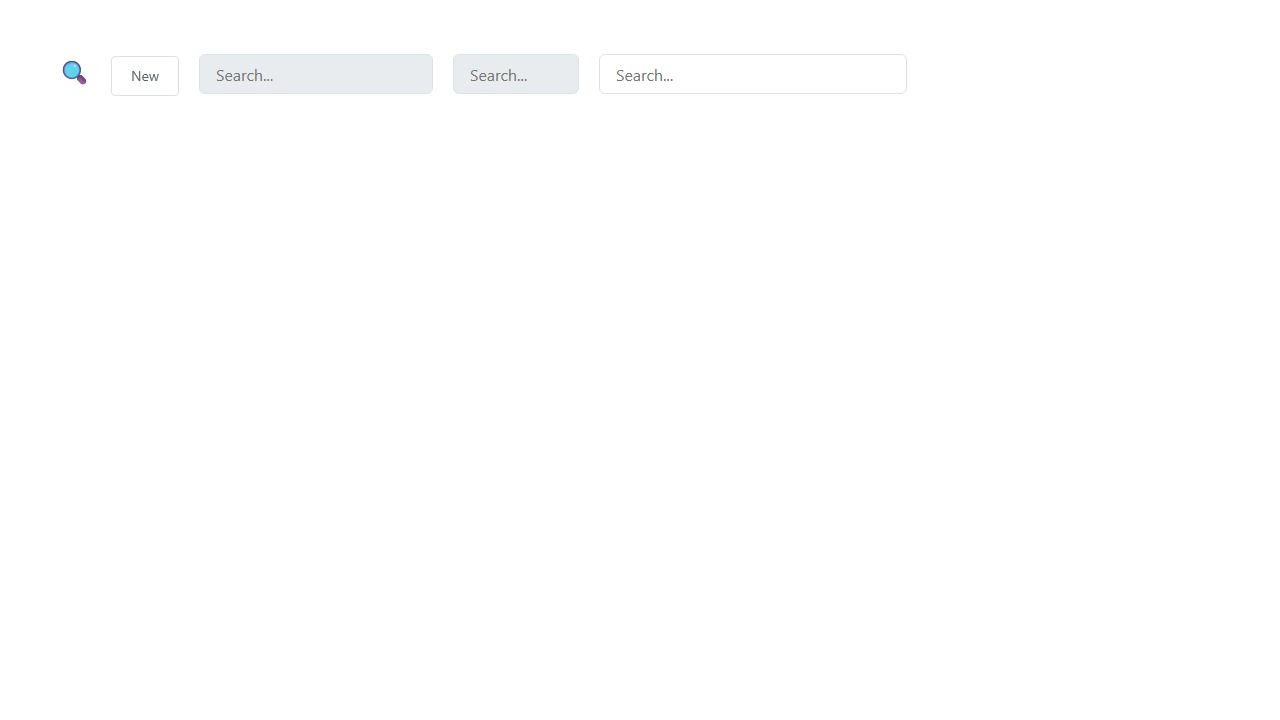button: (111, 55, 179, 96)
icon: (58, 59, 91, 83)
input: (599, 54, 907, 94), (199, 54, 433, 94), (453, 54, 579, 94)
